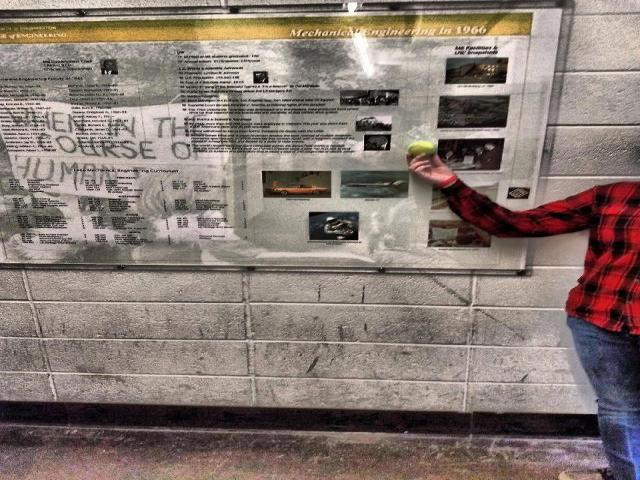tennis-ball: (407, 137, 439, 163)
